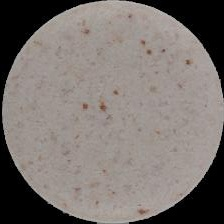50268-672: (0, 0, 224, 224)
